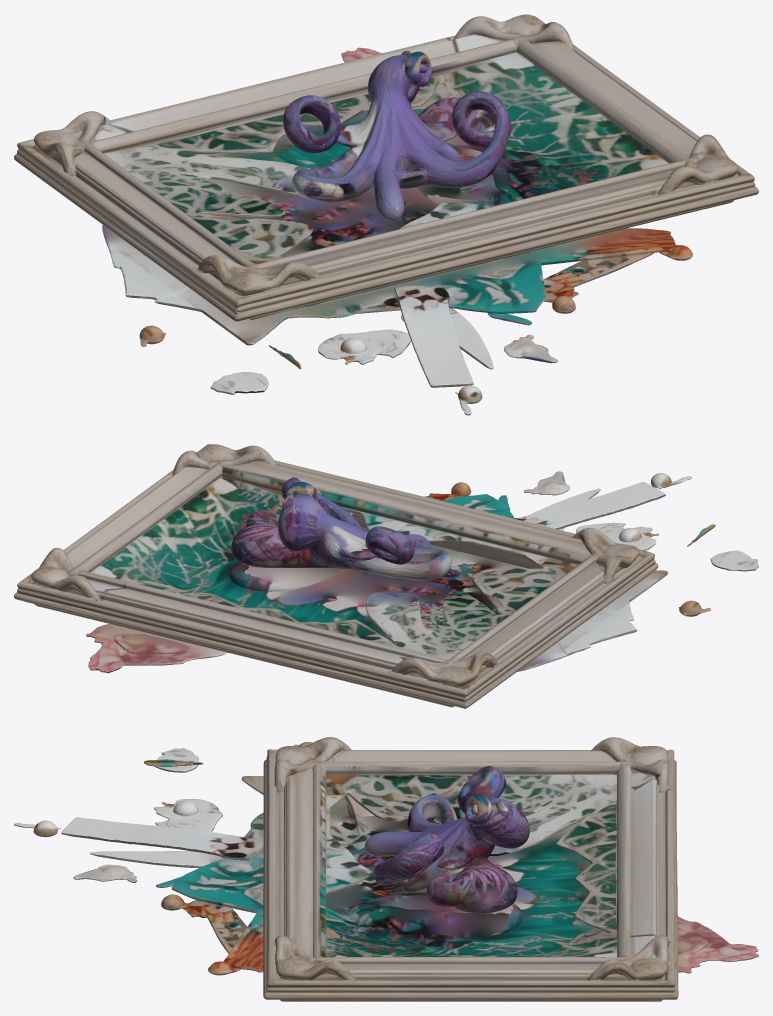
3 renders of one model, top to bottom at view 1: azimuth 30°, elevation 25°; view 2: azimuth 150°, elevation 25°; view 3: azimuth 270°, elevation 25°, orthographic. The views are drawn at different scales.
Parts seen in each view (by area): view 1: texture_pbr_v128; view 2: texture_pbr_v128; view 3: texture_pbr_v128.
Boxes of the visible parts, <box> form: texture_pbr_v128: <box>14,14,758,415</box>; texture_pbr_v128: <box>14,444,758,708</box>; texture_pbr_v128: <box>14,737,758,1001</box>.
Bounding box in the file's own units: 0.8843 × 0.1862 × 1.03.
Materials: 1 (1 with a texture image).
